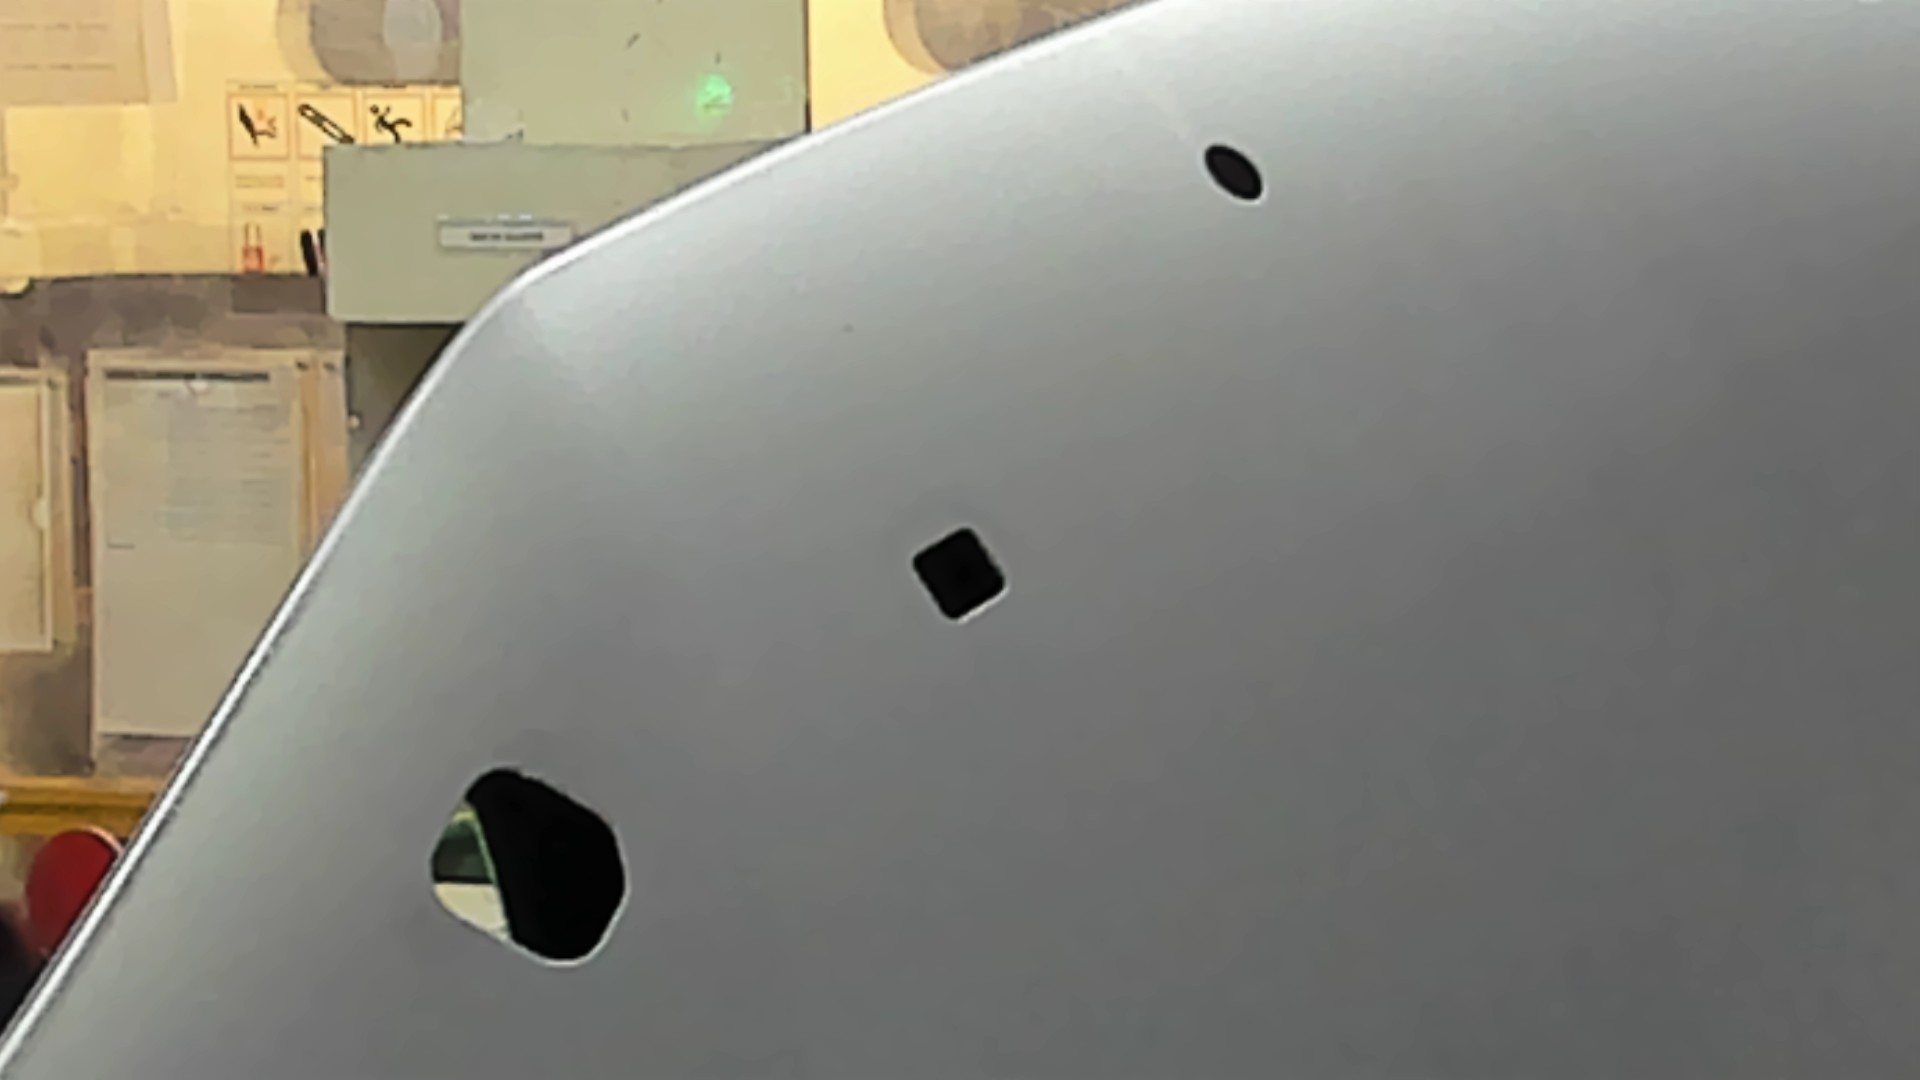chico: (1193, 123, 1278, 211)
grande: (407, 746, 669, 992)
mediano: (902, 527, 1027, 632)
